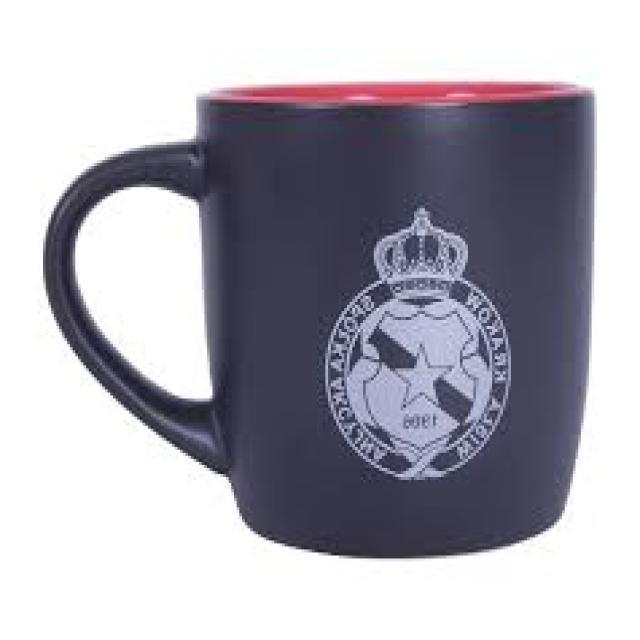Coffee Mug: (45, 80, 593, 555)
